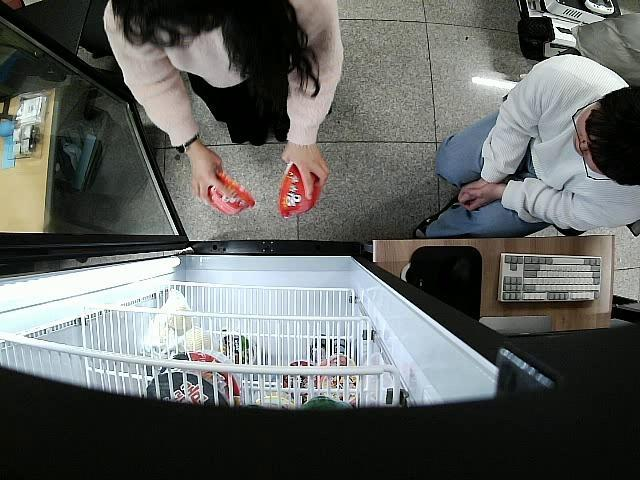10_wangTtukkeong: (278, 162, 321, 220), (206, 169, 255, 216)
